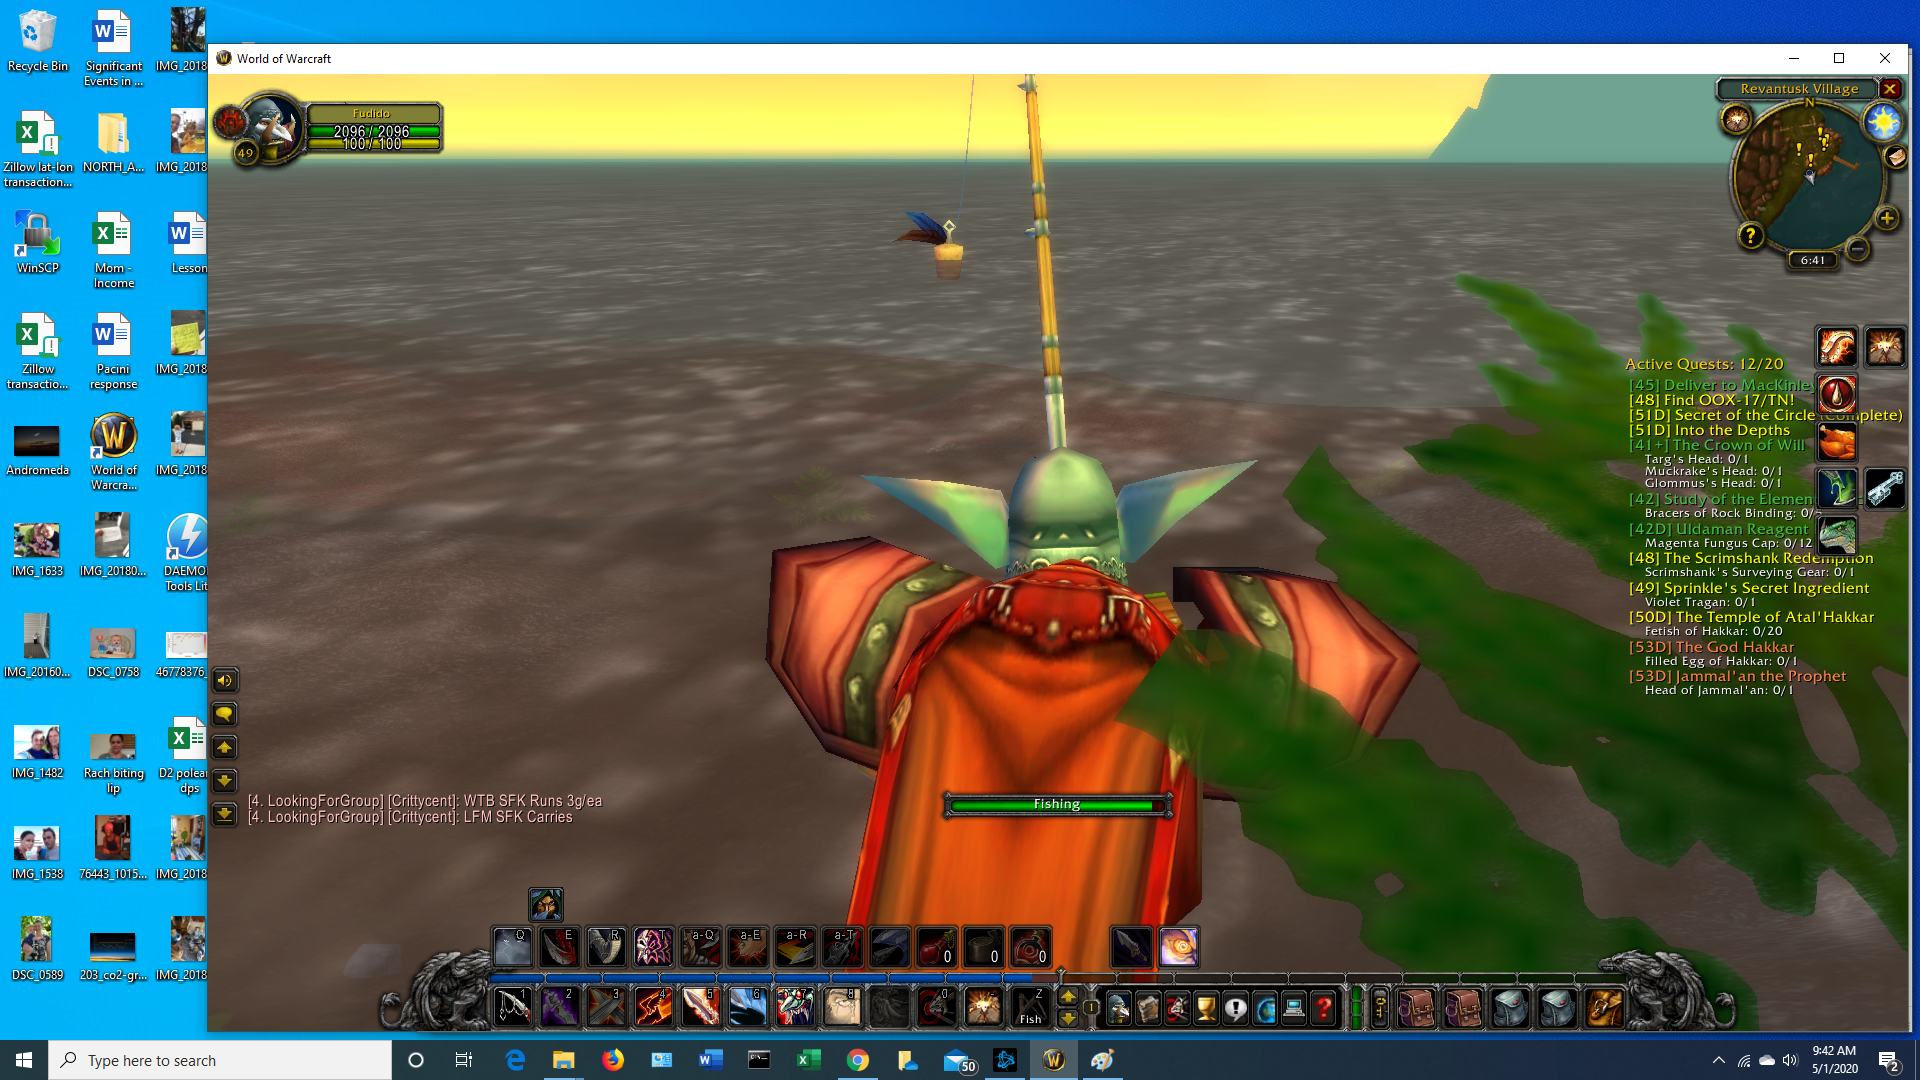bobble: (895, 203, 975, 285)
